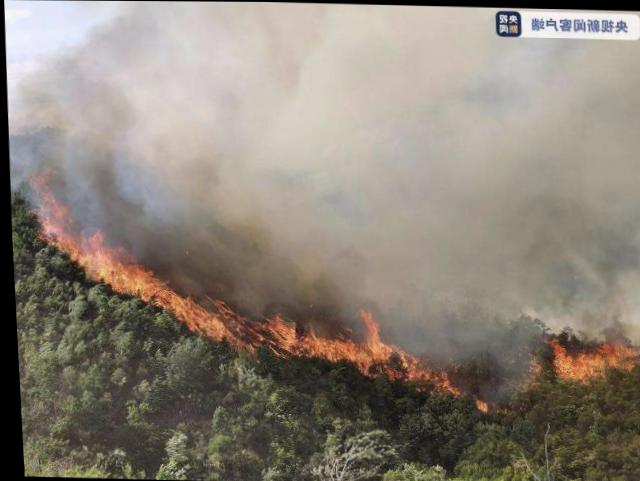fire: (25, 162, 485, 404), (534, 326, 639, 394)
